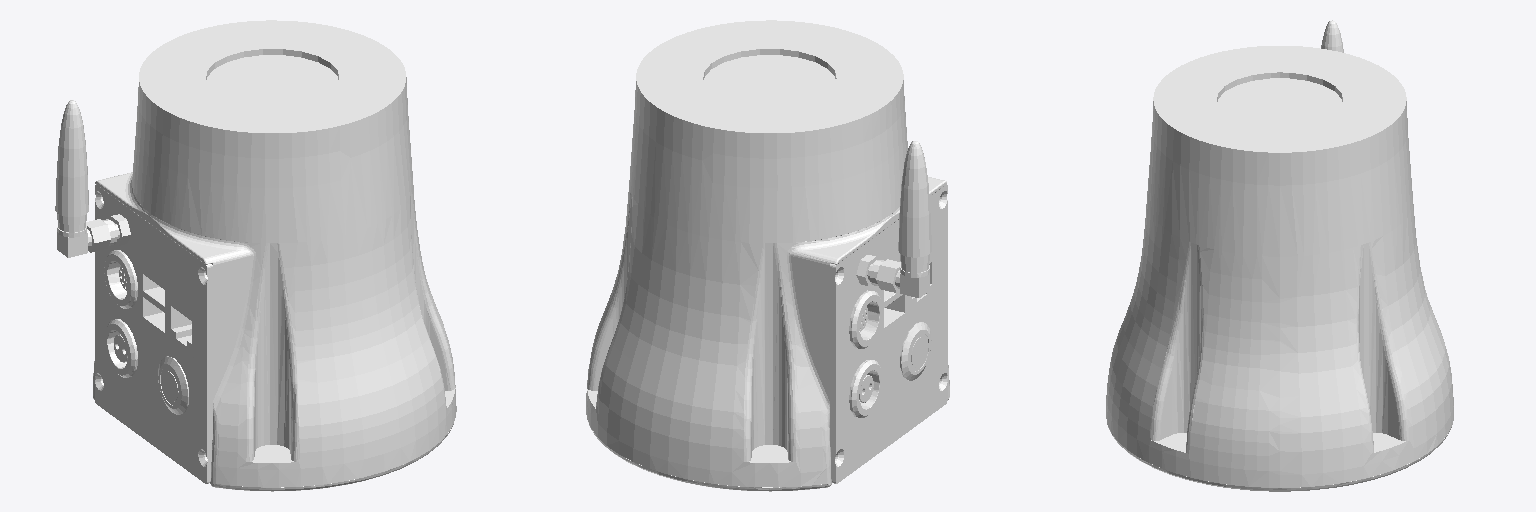
URDF robot description (rm_75_description):
<?xml version="1.0" encoding="utf-8"?>
<robot
  name="rm_75_description">
  <link
    name="base_link">
    <inertial>
      <origin
        xyz="0.000433268851866144 3.54527840972405E-05 0.0599427623574736"
        rpy="0 0 0" />
      <mass
        value="0.841071174772543" />
      <inertia
        ixx="0.00172611149818605"
        ixy="2.52724703312125E-06"
        ixz="3.67689528877993E-05"
        iyy="0.00170987425756066"
        iyz="-1.68009023667311E-06"
        izz="0.000904023916742301" />
    </inertial>
    <visual>
      <origin
        xyz="0 0 0"
        rpy="0 0 0" />
      <geometry>
        <mesh
          filename="package://rm_description/meshes/rm_75_arm/base_link.STL" />
      </geometry>
      <material
        name="">
        <color
          rgba="1 1 1 1" />
      </material>
    </visual>
    <collision>
      <origin
        xyz="0 0 0"
        rpy="0 0 0" />
      <geometry>
        <mesh
          filename="package://rm_description/meshes/rm_75_arm/base_link.STL" />
      </geometry>
    </collision>
  </link>
  <link
    name="Link1">
    <inertial>
      <origin
        xyz="0.0251854224372461 1.19160585601655E-08 -0.021107996993288"
        rpy="0 0 0" />
      <mass
        value="0.593563458735581" />
      <inertia
        ixx="0.000561352422092522"
        ixy="9.8019294192418E-09"
        ixz="-0.000211217278563478"
        iyy="0.00126614121202124"
        iyz="1.29510293158304E-08"
        izz="0.0011816817861243" />
    </inertial>
    <visual>
      <origin
        xyz="0 0 0"
        rpy="0 0 0" />
      <geometry>
        <mesh
          filename="package://rm_description/meshes/rm_75_arm/link1.STL" />
      </geometry>
      <material
        name="">
        <color
          rgba="1 1 1 1" />
      </material>
    </visual>
    <collision>
      <origin
        xyz="0 0 0"
        rpy="0 0 0" />
      <geometry>
        <mesh
          filename="package://rm_description/meshes/rm_75_arm/link1.STL" />
      </geometry>
    </collision>
  </link>
  <joint
    name="joint1"
    type="revolute">
    <origin
      xyz="0 0 0.2405"
      rpy="-1.5708 0 0" />
    <parent
      link="base_link" />
    <child
      link="Link1" />
    <axis
      xyz="0 -1 0" />
    <limit
      lower="-3.1"
      upper="3.1"
      effort="60"
      velocity="3.14" />
  </joint>
  <link
    name="Link2">
    <inertial>
      <origin
        xyz="2.72859133252335E-07 0.011077753037361 0.0761295106490881"
        rpy="0 0 0" />
      <mass
        value="0.432849770310974" />
      <inertia
        ixx="0.00125838173873093"
        ixy="5.63146579602116E-09"
        ixz="1.33486683063366E-09"
        iyy="0.00122245448121472"
        iyz="0.000279003475762058"
        izz="0.000317474184276672" />
    </inertial>
    <visual>
      <origin
        xyz="0 0 0"
        rpy="0 0 0" />
      <geometry>
        <mesh
          filename="package://rm_description/meshes/rm_75_arm/link2.STL" />
      </geometry>
      <material
        name="">
        <color
          rgba="1 1 1 1" />
      </material>
    </visual>
    <collision>
      <origin
        xyz="0 0 0"
        rpy="0 0 0" />
      <geometry>
        <mesh
          filename="package://rm_description/meshes/rm_75_arm/link2.STL" />
      </geometry>
    </collision>
  </link>
  <joint
    name="joint2"
    type="revolute">
    <origin
      xyz="0 0 0"
      rpy="1.5708 0 0" />
    <parent
      link="Link1" />
    <child
      link="Link2" />
    <axis
      xyz="0 1 0" />
    <limit
      lower="-2.268"
      upper="2.268"
      effort="60"
      velocity="3.14" />
  </joint>
  <link
    name="Link3">
    <inertial>
      <origin
        xyz="6.84676164566044E-07 0.0273475408308154 -0.0235440119707943"
        rpy="0 0 0" />
      <mass
        value="0.431325495678459" />
      <inertia
        ixx="0.000794332771462568"
        ixy="1.03353218375171E-08"
        ixz="-2.32798826854953E-09"
        iyy="0.000315065343266245"
        iyz="-0.000142620540462618"
        izz="0.000730371131605455" />
    </inertial>
    <visual>
      <origin
        xyz="0 0 0"
        rpy="0 0 0" />
      <geometry>
        <mesh
          filename="package://rm_description/meshes/rm_75_arm/link3.STL" />
      </geometry>
      <material
        name="">
        <color
          rgba="1 1 1 1" />
      </material>
    </visual>
    <collision>
      <origin
        xyz="0 0 0"
        rpy="0 0 0" />
      <geometry>
        <mesh
          filename="package://rm_description/meshes/rm_75_arm/link3.STL" />
      </geometry>
    </collision>
  </link>
  <joint
    name="joint3"
    type="revolute">
    <origin
      xyz="0 0 0.256"
      rpy="-1.5708 0 0" />
    <parent
      link="Link2" />
    <child
      link="Link3" />
    <axis
      xyz="0 -1 0" />
    <limit
      lower="-3.1"
      upper="3.1"
      effort="30"
      velocity="3.92" />
  </joint>
  <link
    name="Link4">
    <inertial>
      <origin
        xyz="5.05312670298932E-06 0.0105690692118619 0.0595925663703773"
        rpy="0 0 0" />
      <mass
        value="0.289633681619295" />
      <inertia
        ixx="0.000637371004484591"
        ixy="-3.86643270900744E-08"
        ixz="7.05261290886955E-08"
        iyy="0.000614178164759844"
        iyz="0.000144610359942128"
        izz="0.000156483880946498" />
    </inertial>
    <visual>
      <origin
        xyz="0 0 0"
        rpy="0 0 0" />
      <geometry>
        <mesh
          filename="package://rm_description/meshes/rm_75_arm/link4.STL" />
      </geometry>
      <material
        name="">
        <color
          rgba="1 1 1 1" />
      </material>
    </visual>
    <collision>
      <origin
        xyz="0 0 0"
        rpy="0 0 0" />
      <geometry>
        <mesh
          filename="package://rm_description/meshes/rm_75_arm/link4.STL" />
      </geometry>
    </collision>
  </link>
  <joint
    name="joint4"
    type="revolute">
    <origin
      xyz="0 0 0"
      rpy="1.5708 0 0" />
    <parent
      link="Link3" />
    <child
      link="Link4" />
    <axis
      xyz="0 1 0" />
    <limit
      lower="-2.355"
      upper="2.355"
      effort="30"
      velocity="3.92" />
  </joint>
  <link
    name="Link5">
    <inertial>
      <origin
        xyz="1.1551661767744E-06 0.0215394748352686 -0.0180424468598241"
        rpy="0 0 0" />
      <mass
        value="0.239419768320061" />
      <inertia
        ixx="0.000285938919722783"
        ixy="2.21994116852616E-09"
        ixz="3.07101358617598E-09"
        iyy="0.00011988808279186"
        iyz="-4.4236583260078E-05"
        izz="0.000262727540304212" />
    </inertial>
    <visual>
      <origin
        xyz="0 0 0"
        rpy="0 0 0" />
      <geometry>
        <mesh
          filename="package://rm_description/meshes/rm_75_arm/link5.STL" />
      </geometry>
      <material
        name="">
        <color
          rgba="1 1 1 1" />
      </material>
    </visual>
    <collision>
      <origin
        xyz="0 0 0"
        rpy="0 0 0" />
      <geometry>
        <mesh
          filename="package://rm_description/meshes/rm_75_arm/link5.STL" />
      </geometry>
    </collision>
  </link>
  <joint
    name="joint5"
    type="revolute">
    <origin
      xyz="0 0 0.21"
      rpy="-1.5708 0 0" />
    <parent
      link="Link4" />
    <child
      link="Link5" />
    <axis
      xyz="0 -1 0" />
    <limit
      lower="-3.1"
      upper="3.1"
      effort="10"
      velocity="3.92" />
  </joint>
  <link
    name="Link6">
    <inertial>
      <origin
        xyz="3.19794787018954E-06 0.00736804250989373 0.0593808368101291"
        rpy="0 0 0" />
      <mass
        value="0.218799761431682" />
      <inertia
        ixx="0.000350540363914436"
        ixy="-1.7705645712277E-08"
        ixz="3.41781620449632E-08"
        iyy="0.000334482418423991"
        iyz="7.82431228462317E-05"
        izz="0.000104927867487584" />
    </inertial>
    <visual>
      <origin
        xyz="0 0 0"
        rpy="0 0 0" />
      <geometry>
        <mesh
          filename="package://rm_description/meshes/rm_75_arm/link6.STL" />
      </geometry>
      <material
        name="">
        <color
          rgba="1 1 1 1" />
      </material>
    </visual>
    <collision>
      <origin
        xyz="0 0 0"
        rpy="0 0 0" />
      <geometry>
        <mesh
          filename="package://rm_description/meshes/rm_75_arm/link6.STL" />
      </geometry>
    </collision>
  </link>
  <joint
    name="joint6"
    type="revolute">
    <origin
      xyz="0 0 0"
      rpy="1.5708 0 0" />
    <parent
      link="Link5" />
    <child
      link="Link6" />
    <axis
      xyz="0 1 0" />
    <limit
      lower="-2.233"
      upper="2.233"
      effort="10"
      velocity="3.92" />
  </joint>
  <link
    name="Link7">
    <inertial>
      <origin
        xyz="0.000714238382876259 -0.000396711987952758 -0.0126723660946126"
        rpy="0 0 0" />
      <mass
        value="0.0649018034311231" />
      <inertia
        ixx="2.02766547502765E-05"
        ixy="-1.32505200276848E-06"
        ixz="-2.58450915224912E-08"
        iyy="1.87986725225022E-05"
        iyz="3.39471452123283E-09"
        izz="3.17885459163081E-05" />
    </inertial>
    <visual>
      <origin
        xyz="0 0 0"
        rpy="0 0 0" />
      <geometry>
        <mesh
          filename="package://rm_description/meshes/rm_75_arm/link7.STL" />
      </geometry>
      <material
        name="">
        <color
          rgba="1 1 1 1" />
      </material>
    </visual>
    <collision>
      <origin
        xyz="0 0 0"
        rpy="0 0 0" />
      <geometry>
        <mesh
          filename="package://rm_description/meshes/rm_75_arm/link7.STL" />
      </geometry>
    </collision>
  </link>
  <joint
    name="joint7"
    type="revolute">
    <origin
      xyz="0 0 0.144"
      rpy="0 0 0" />
    <parent
      link="Link6" />
    <child
      link="Link7" />
    <axis
      xyz="0 0 1" />
    <limit
      lower="-6.28"
      upper="6.28"
      effort="10"
      velocity="3.92" />
  </joint>
</robot>

--- What the picture shows (computed from the rendered views, not written in the file) ---
The picture shows the robot from 3 angles, left to right: view 1: azimuth 30°, elevation 25°; view 2: azimuth 150°, elevation 25°; view 3: azimuth 270°, elevation 25°; orthographic projection.
Robot: rm_75_description — 8 links, 7 joints (7 revolute); root link base_link; default pose: all joints at 0.
Links seen in each view (by area): view 1: base_link; view 2: base_link; view 3: base_link.
Link boxes in pixels (bbox=[...]): base_link: bbox=[55, 20, 456, 491]; base_link: bbox=[586, 20, 949, 491]; base_link: bbox=[1106, 20, 1453, 491].
Bounding box of the posed robot: 0.1197 × 0.11 × 0.1118 m (x, y, z).
Meshes: 8 distinct files referenced, 1 mesh visuals loaded (1 binary STL); not drawn: 7 (reference not matched to a file when rendering).